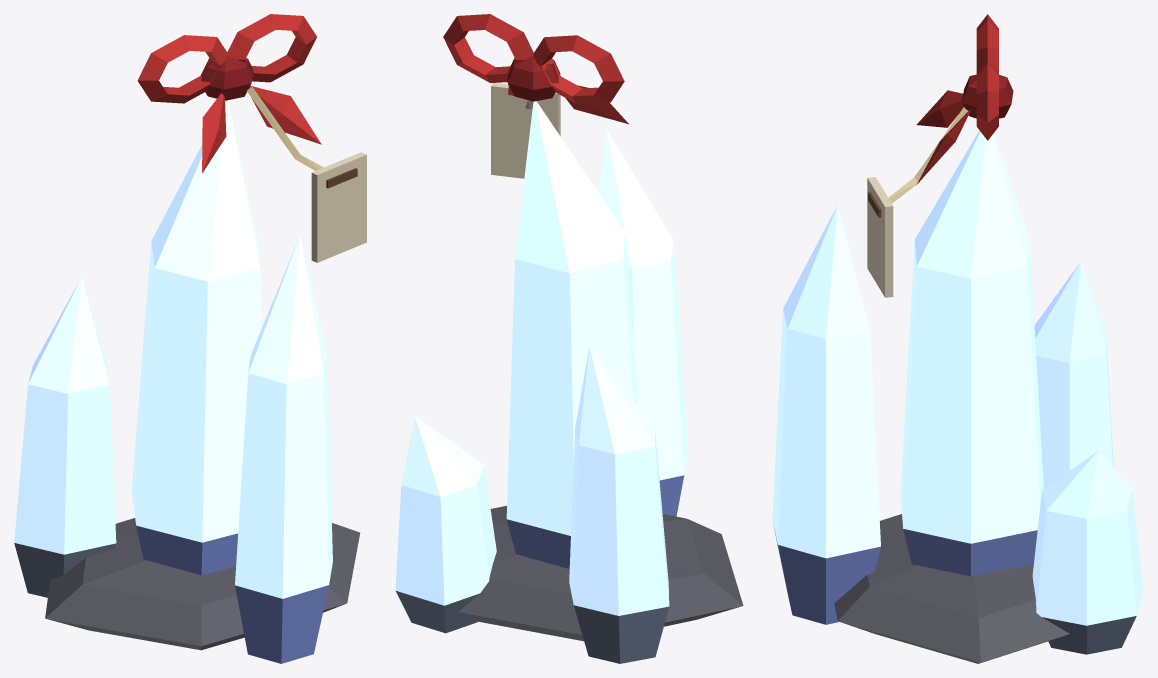
Rendered from quest_singing_crystal.glb.
3 renders of one model, left to right at view 1: azimuth 30°, elevation 25°; view 2: azimuth 150°, elevation 25°; view 3: azimuth 270°, elevation 25°, orthographic. The views are drawn at different scales.
Parts seen in each view (by area): view 1: quest_singing_crystal; view 2: quest_singing_crystal; view 3: quest_singing_crystal.
Part boxes in pixels (bbox=[...]): quest_singing_crystal: bbox=[14, 14, 366, 663]; quest_singing_crystal: bbox=[395, 14, 743, 663]; quest_singing_crystal: bbox=[772, 14, 1143, 663].
Bounding box in the file's own units: 0.2707 × 0.4573 × 0.2595.
